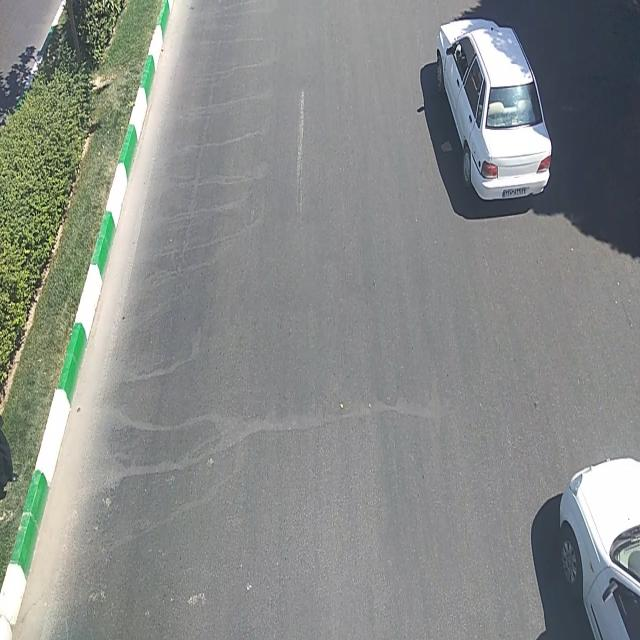car: (434, 22, 552, 205), (555, 461, 640, 639)
